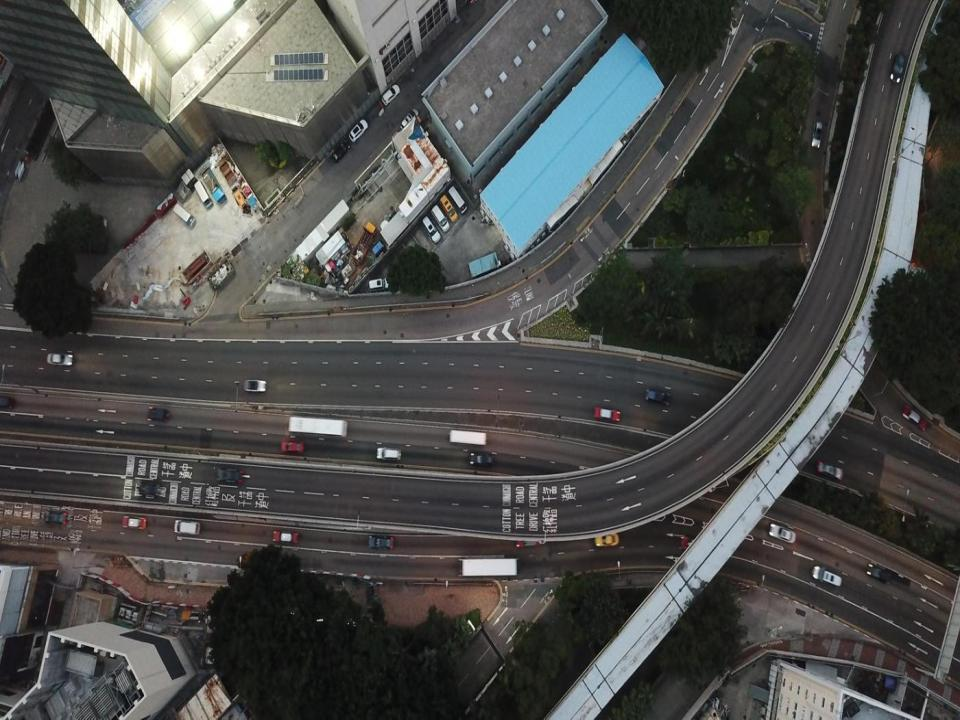car: (902, 405, 926, 430), (866, 563, 891, 584), (817, 460, 842, 479), (769, 524, 795, 542), (645, 388, 670, 406), (174, 519, 200, 535), (891, 53, 904, 82), (594, 407, 620, 421), (680, 536, 706, 550), (122, 515, 147, 529), (217, 469, 243, 482), (43, 510, 67, 524), (273, 530, 298, 543), (46, 352, 73, 364), (470, 452, 493, 466), (334, 142, 350, 162), (368, 536, 394, 548), (146, 407, 168, 421), (594, 534, 619, 546), (243, 379, 267, 391), (139, 483, 161, 496), (281, 441, 303, 452), (0, 395, 14, 408)
truck: (288, 416, 348, 436), (458, 559, 518, 575), (448, 429, 487, 445), (173, 204, 196, 228), (448, 185, 467, 214), (194, 181, 213, 209), (439, 196, 458, 222), (368, 276, 394, 290)
van: (812, 566, 841, 586), (431, 206, 450, 231), (422, 217, 440, 243), (349, 118, 368, 142), (382, 83, 400, 105), (375, 446, 401, 458), (811, 122, 822, 148)
